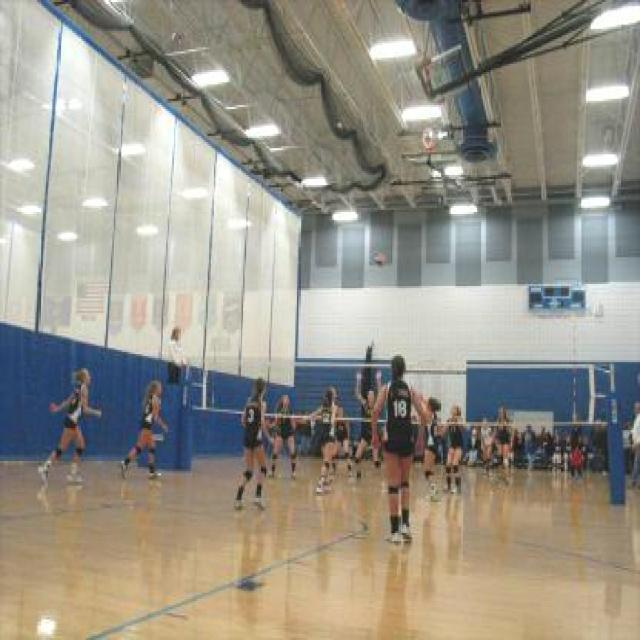volleyball: (371, 250, 385, 264)
